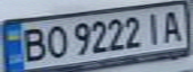2: (121, 12, 148, 50), (87, 17, 112, 55), (106, 15, 127, 52)
9: (69, 19, 93, 56)
A: (157, 7, 187, 43)
B: (15, 25, 51, 63)
I: (142, 9, 169, 45)
O: (42, 22, 69, 60)
